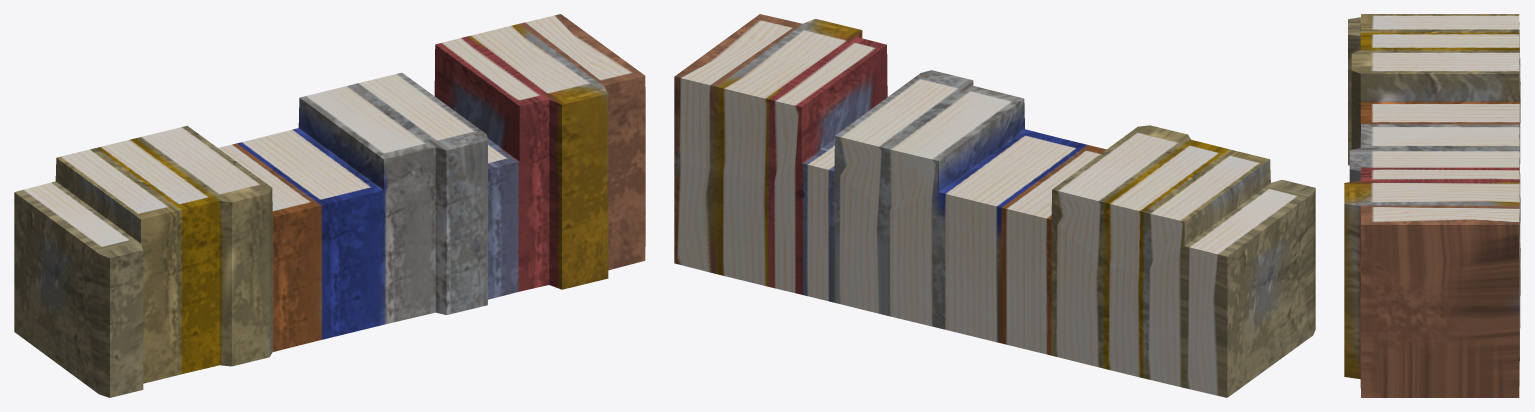
The model's file is BookRow02.fbx.
3 renders of one model, left to right at view 1: azimuth 30°, elevation 25°; view 2: azimuth 150°, elevation 25°; view 3: azimuth 270°, elevation 25°, orthographic. The views are drawn at different scales.
Parts seen in each view (by area): view 1: BookRow2; view 2: BookRow2; view 3: BookRow2.
Part boxes in pixels (bbox=[...]): BookRow2: bbox=[14, 14, 645, 397]; BookRow2: bbox=[674, 14, 1315, 397]; BookRow2: bbox=[1344, 14, 1520, 397].
Bounding box in the file's own units: 1.51 × 0.49 × 0.451.
